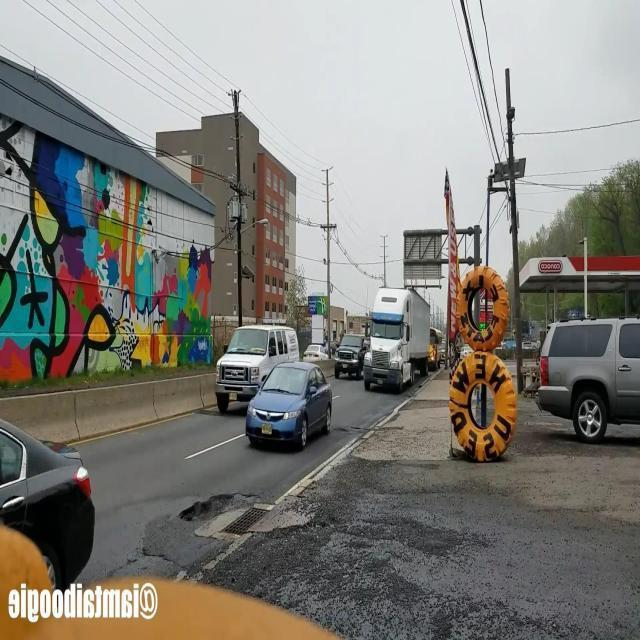Pothole: (176, 491, 263, 523)
